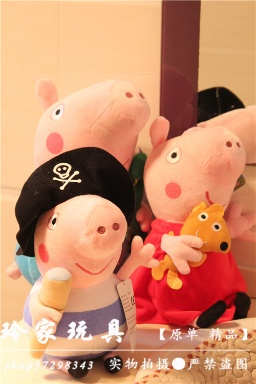Peppa: (137, 128, 256, 332)
